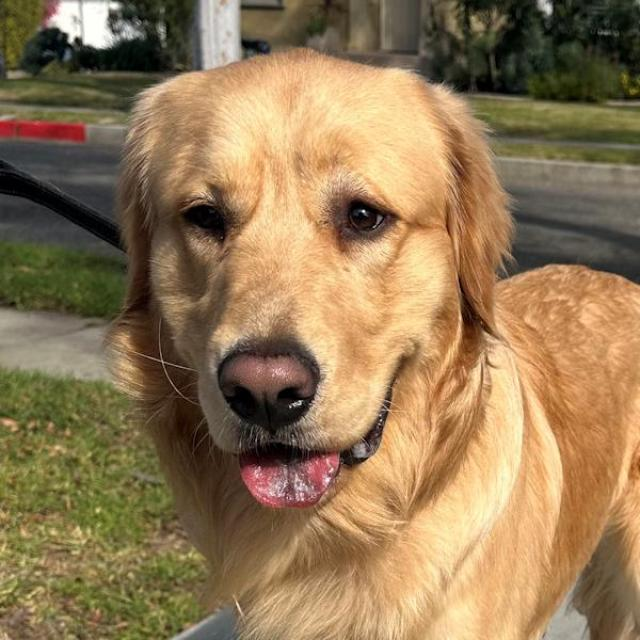golden_retriever_dog: (100, 41, 526, 531)
